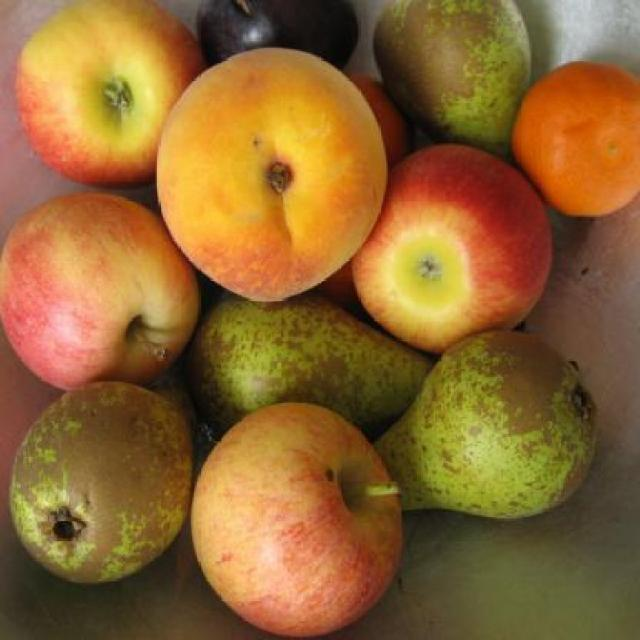Peach: (154, 48, 388, 304)
